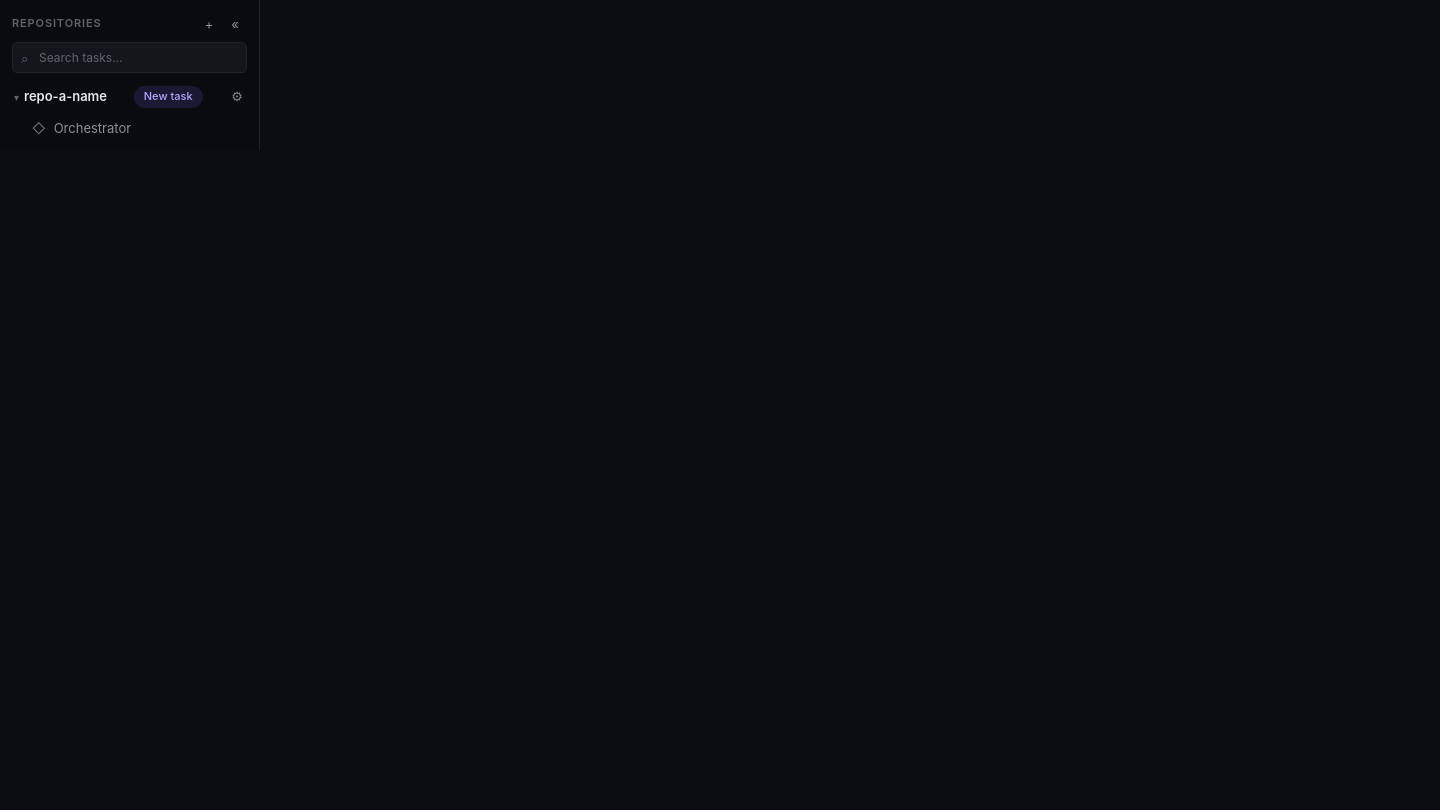
Test: Sidebar › shows an error and a Retry control when setup/create fails
Click the button "New task" at [168, 97], box [134, 86, 203, 108]
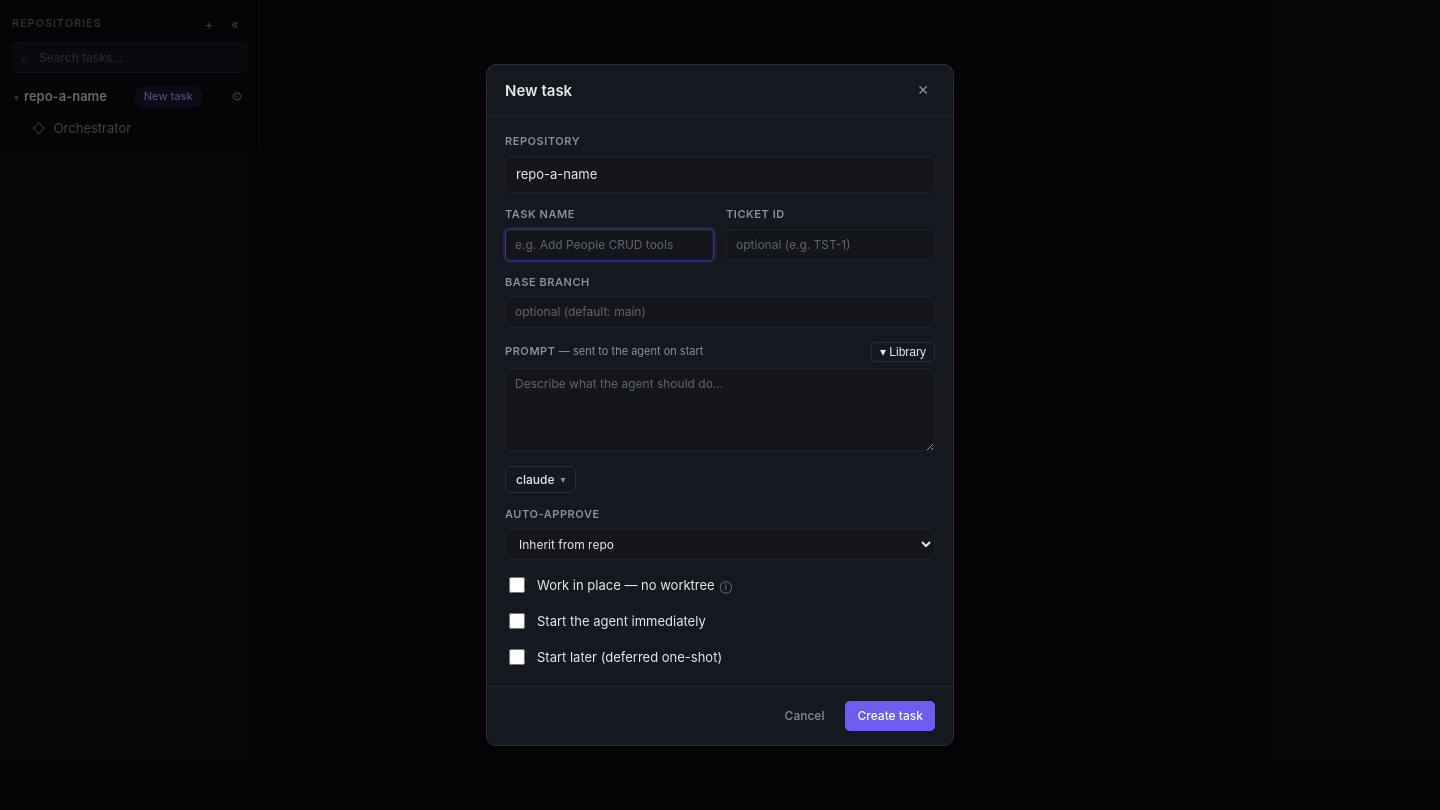
Type "Repo overview" into the field named "Task title" at [610, 245], box [505, 229, 714, 260]
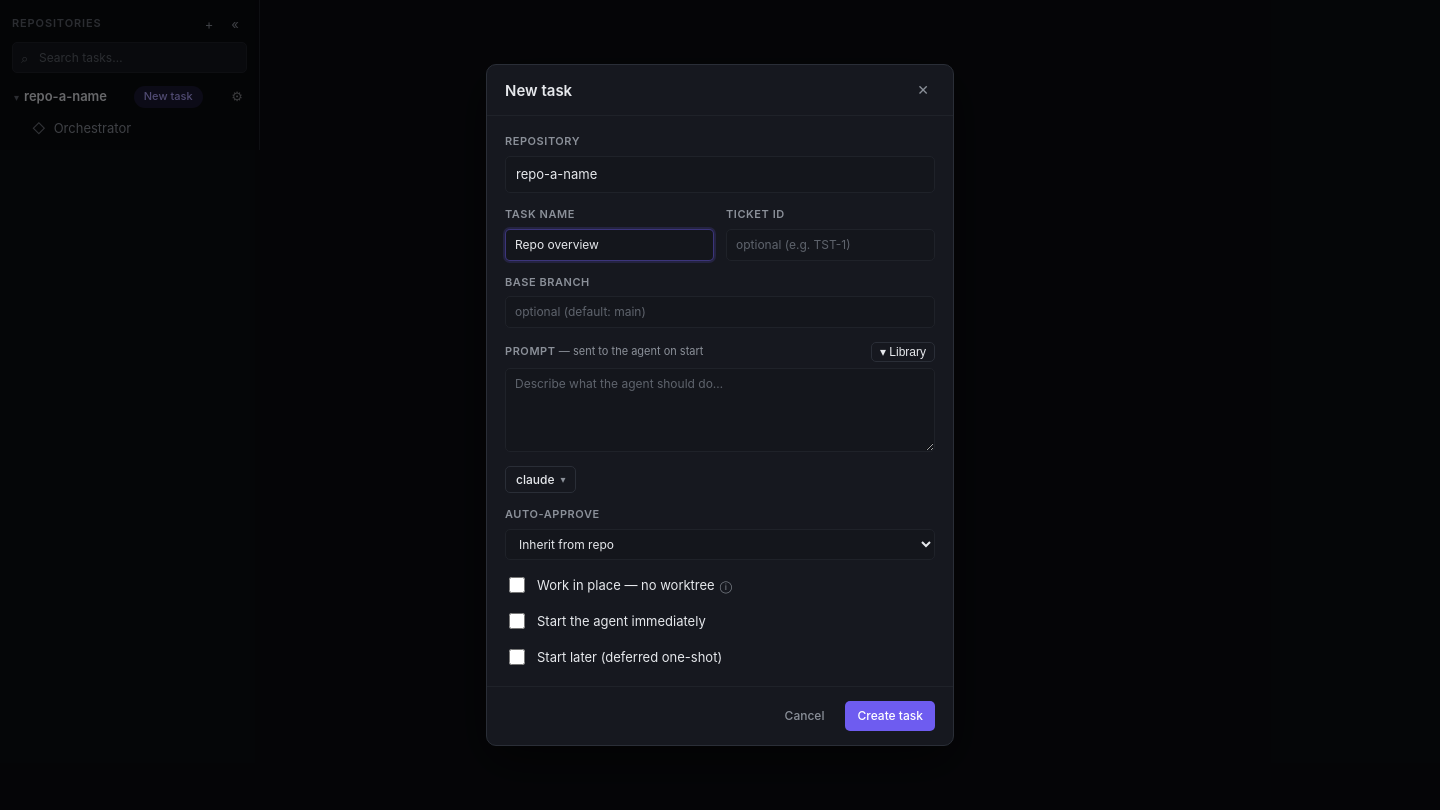
Click the button "Create task" at [890, 716], box [846, 701, 935, 731]
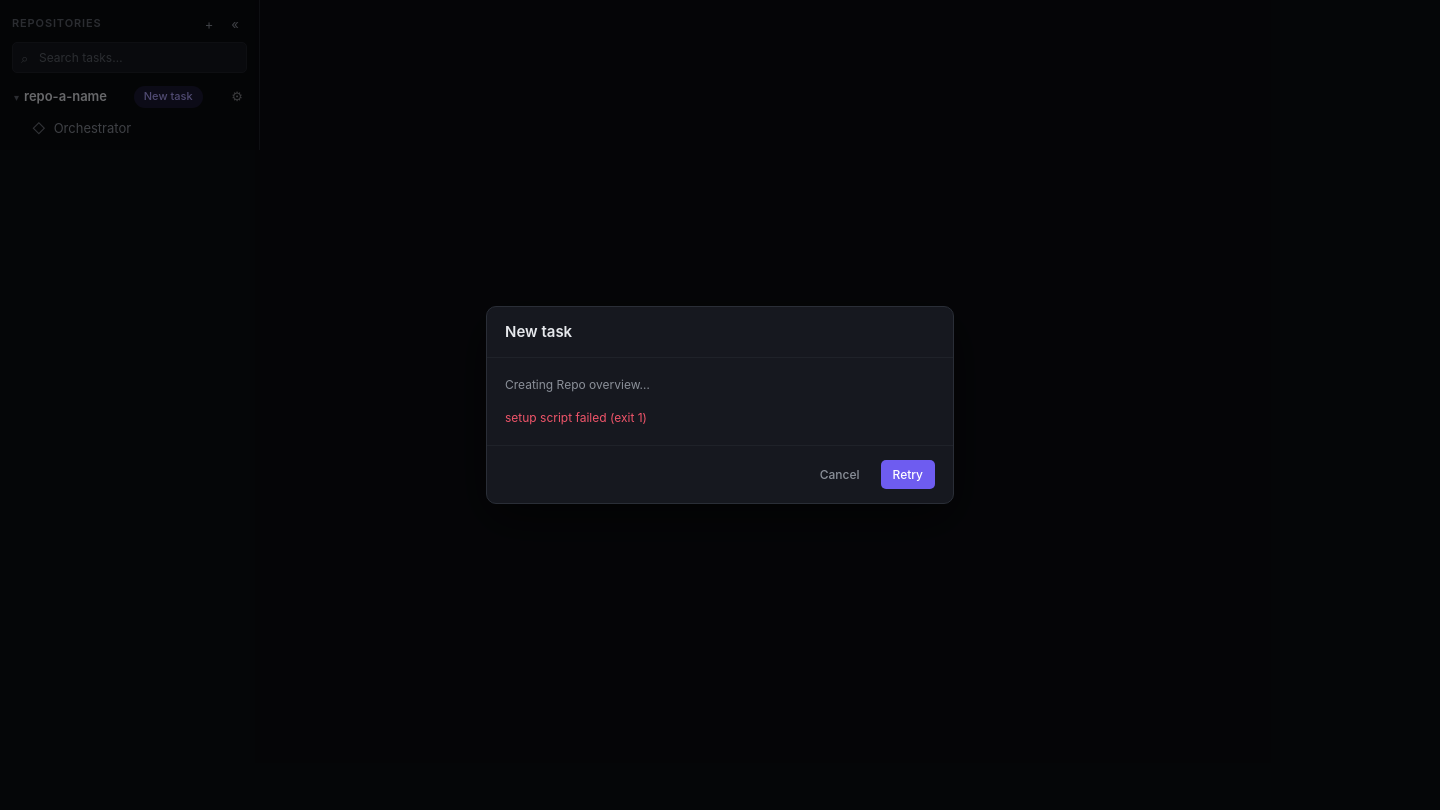
Now the message shows "exit 1", box [505, 410, 647, 425]
Now the button "Retry" is shown, box [880, 460, 935, 489]
